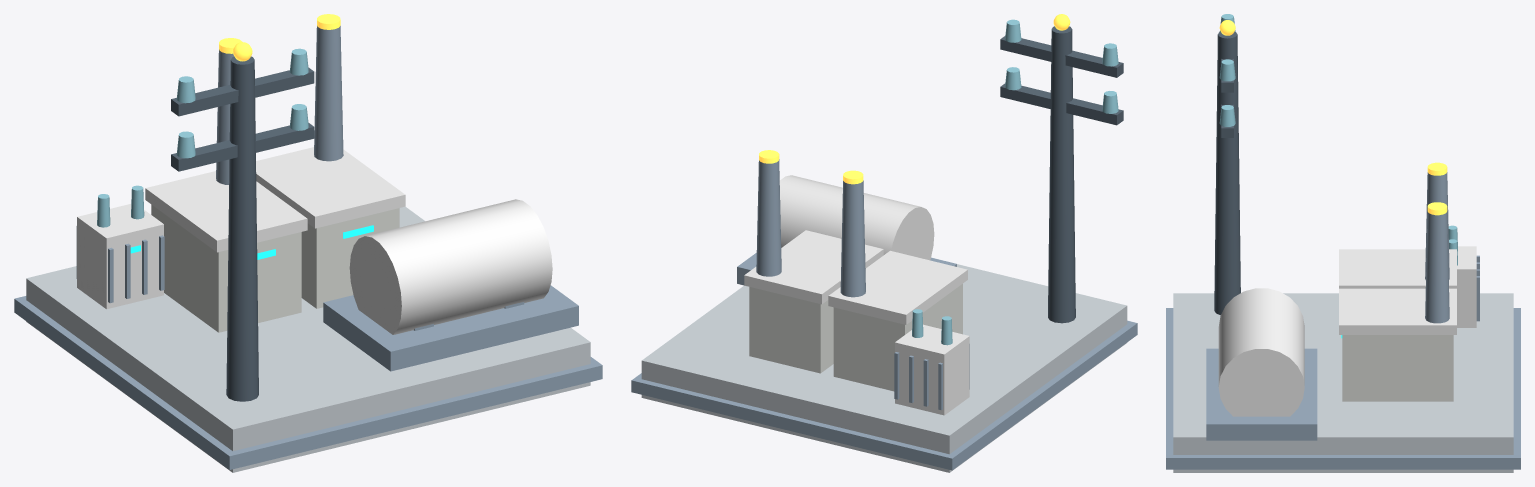
File: power_plant_t2.glb
3 renders of one model, left to right at view 1: azimuth 30°, elevation 25°; view 2: azimuth 150°, elevation 25°; view 3: azimuth 270°, elevation 25°, orthographic. The views are drawn at different scales.
Parts seen in each view (by area): view 1: pad, fuel_tank, pad_edge, pole, fuel_bund, genset_0, genset_roof_1, transformer, genset_roof_0, genset_1, exhaust_stack_1, crossarm_0 (+2 smaller); view 2: pad, pad_edge, pole, fuel_tank, genset_1, genset_0, genset_roof_0, transformer, genset_roof_1, exhaust_stack_1, exhaust_stack_0, crossarm_0 (+1 smaller); view 3: pad, fuel_tank, pad_edge, genset_1, pole, fuel_bund, genset_roof_1, genset_roof_0, exhaust_stack_1, transformer, exhaust_stack_0.
Boxes of the visible parts, left/top/right/bottom form: pad: left=26, top=206, right=590, bottom=472; fuel_tank: left=349, top=199, right=552, bottom=334; pad_edge: left=14, top=296, right=602, bottom=469; pole: left=226, top=56, right=258, bottom=401; fuel_bund: left=323, top=285, right=578, bottom=371; genset_0: left=151, top=204, right=301, bottom=332; genset_roof_1: left=256, top=147, right=405, bottom=228; transformer: left=77, top=204, right=163, bottom=309; genset_roof_0: left=145, top=171, right=307, bottom=252; genset_1: left=301, top=208, right=399, bottom=308; exhaust_stack_1: left=314, top=26, right=343, bottom=161; crossarm_0: left=171, top=67, right=314, bottom=116; pad: left=641, top=264, right=1127, bottom=472; pad_edge: left=631, top=320, right=1137, bottom=470; pole: left=1048, top=26, right=1075, bottom=323; fuel_tank: left=779, top=175, right=934, bottom=260; genset_1: left=749, top=287, right=833, bottom=373; genset_0: left=833, top=284, right=962, bottom=391; genset_roof_0: left=828, top=250, right=967, bottom=324; transformer: left=895, top=324, right=969, bottom=415; genset_roof_1: left=744, top=230, right=883, bottom=304; exhaust_stack_1: left=756, top=159, right=781, bottom=276; exhaust_stack_0: left=840, top=180, right=865, bottom=297; crossarm_0: left=1000, top=36, right=1123, bottom=77; pad: left=1173, top=293, right=1513, bottom=472; fuel_tank: left=1218, top=288, right=1304, bottom=416; pad_edge: left=1166, top=308, right=1520, bottom=469; genset_1: left=1342, top=335, right=1453, bottom=401; pole: left=1214, top=31, right=1240, bottom=315; fuel_bund: left=1206, top=348, right=1317, bottom=440; genset_roof_1: left=1339, top=288, right=1456, bottom=334; genset_roof_0: left=1339, top=249, right=1456, bottom=288; exhaust_stack_1: left=1425, top=211, right=1449, bottom=323; transformer: left=1457, top=246, right=1476, bottom=327; exhaust_stack_0: left=1425, top=172, right=1449, bottom=279.
Size of the model in its own units: 2.08 by 2.01 by 1.98.
